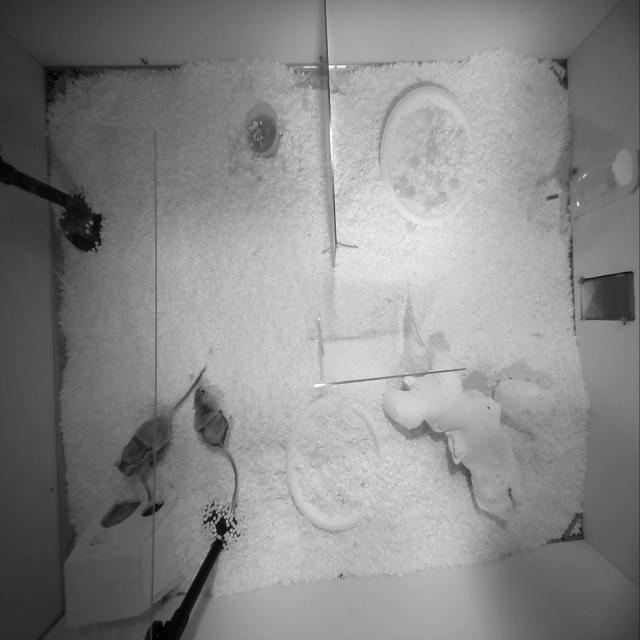adult_back: (194, 385, 238, 511)
adult_front: (116, 367, 206, 475)
pup_v_stripe: (130, 447, 166, 501)
